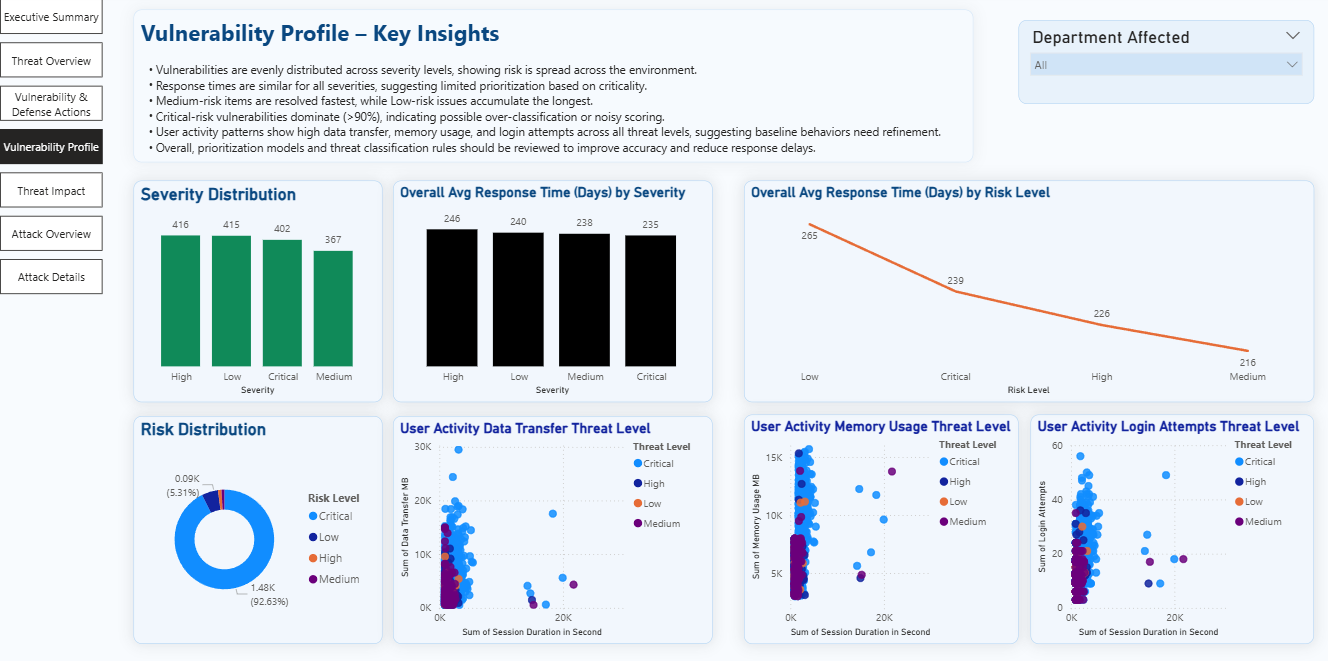

This screenshot's page, from the dashboard's own definition file:
{"tool":"powerbi","page":{"name":"Vulnerability Profile","canvas":[1600,800],"ordinal":3},"visuals":[{"type":"donutChart","title":"Risk Distribution","fields":{"Category":["simulated_attacks_df.Risk Level"],"Y":["CountNonNull(simulated_attacks_df.Issue ID)"]},"box":[160.1,500.2,298.7,273.5],"z":0},{"type":"columnChart","title":"Severity Distribution","fields":{"Category":["simulated_attacks_df.Severity"],"Y":["CountNonNull(simulated_attacks_df.Issue ID)"]},"box":[160.1,217.7,298.7,266.3],"z":1000},{"type":"lineChart","fields":{"Category":["simulated_attacks_df.Risk Level"],"Y":["simulated_attacks_df.Overall Avg Response Time (Days)"]},"box":[892.4,217.7,683.7,266.3],"z":2000},{"type":"clusteredColumnChart","fields":{"Category":["simulated_attacks_df.Severity"],"Y":["simulated_attacks_df.Overall Avg Response Time (Days)"]},"box":[471.4,217.7,383.2,266.3],"z":3000},{"type":"scatterChart","title":"User Activity Data Transfer  Threat Level","fields":{"X":["Sum(simulated_attacks_df.Session Duration in Second)"],"Y":["Sum(simulated_attacks_df.Data Transfer MB)"],"Category":["simulated_attacks_df.Issue ID"],"Series":["simulated_attacks_df.Threat Level"]},"box":[471.4,500.2,383.2,273.5],"z":4000},{"type":"scatterChart","title":"User Activity  Memory Usage  Threat Level","fields":{"X":["Sum(simulated_attacks_df.Session Duration in Second)"],"Category":["simulated_attacks_df.Issue ID"],"Series":["simulated_attacks_df.Threat Level"],"Y":["Sum(simulated_attacks_df.Memory Usage MB)"]},"box":[892.4,498.4,329.2,275.3],"z":5000},{"type":"scatterChart","title":"User Activity  Login Attempts  Threat Level","fields":{"X":["Sum(simulated_attacks_df.Session Duration in Second)"],"Category":["simulated_attacks_df.Issue ID"],"Series":["simulated_attacks_df.Threat Level"],"Y":["Sum(simulated_attacks_df.Login Attempts)"]},"box":[1236,498.4,340,275.3],"z":6000},{"type":"slicer","fields":{"Values":["simulated_attacks_df.Department Affected"]},"box":[1221.6,25.2,354.4,100.8],"z":7000},{"type":"pageNavigator","box":[0,0,123.1,359.5],"z":8000},{"type":"textbox","box":[160.1,12.6,1007.5,183.5],"z":9000}]}

Visuals, with their boxes on the page's 1600x800 design canvas (x1, y1, x2, y2). These are canvas units, not pixel positions in the 1328x661 screenshot, which may show the page scaled, cropped or inside an application window:
"Risk Distribution" donutChart: box(160, 500, 459, 774)
"Severity Distribution" columnChart: box(160, 218, 459, 484)
lineChart - simulated_attacks_df.Risk Level x simulated_attacks_df.Overall Avg Response Time (Days): box(892, 218, 1576, 484)
clusteredColumnChart - simulated_attacks_df.Severity x simulated_attacks_df.Overall Avg Response Time (Days): box(471, 218, 855, 484)
"User Activity Data Transfer  Threat Level" scatterChart: box(471, 500, 855, 774)
"User Activity  Memory Usage  Threat Level" scatterChart: box(892, 498, 1222, 774)
"User Activity  Login Attempts  Threat Level" scatterChart: box(1236, 498, 1576, 774)
slicer - simulated_attacks_df.Department Affected: box(1222, 25, 1576, 126)
pageNavigator: box(0, 0, 123, 360)
textbox: box(160, 13, 1168, 196)
